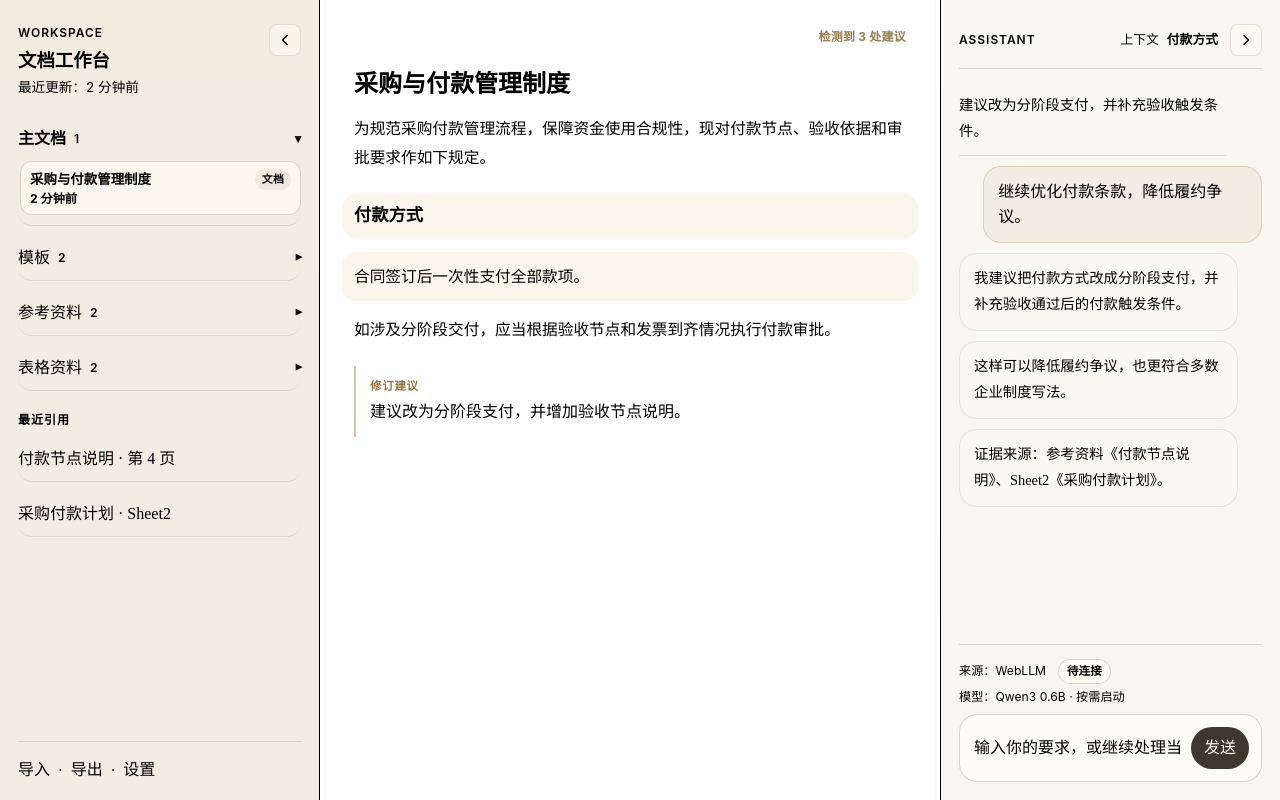
Test: workspace shell › opens settings, updates the workspace title, and persists it
Click the button "设置".
click(139, 770)  # box [123, 758, 155, 782]
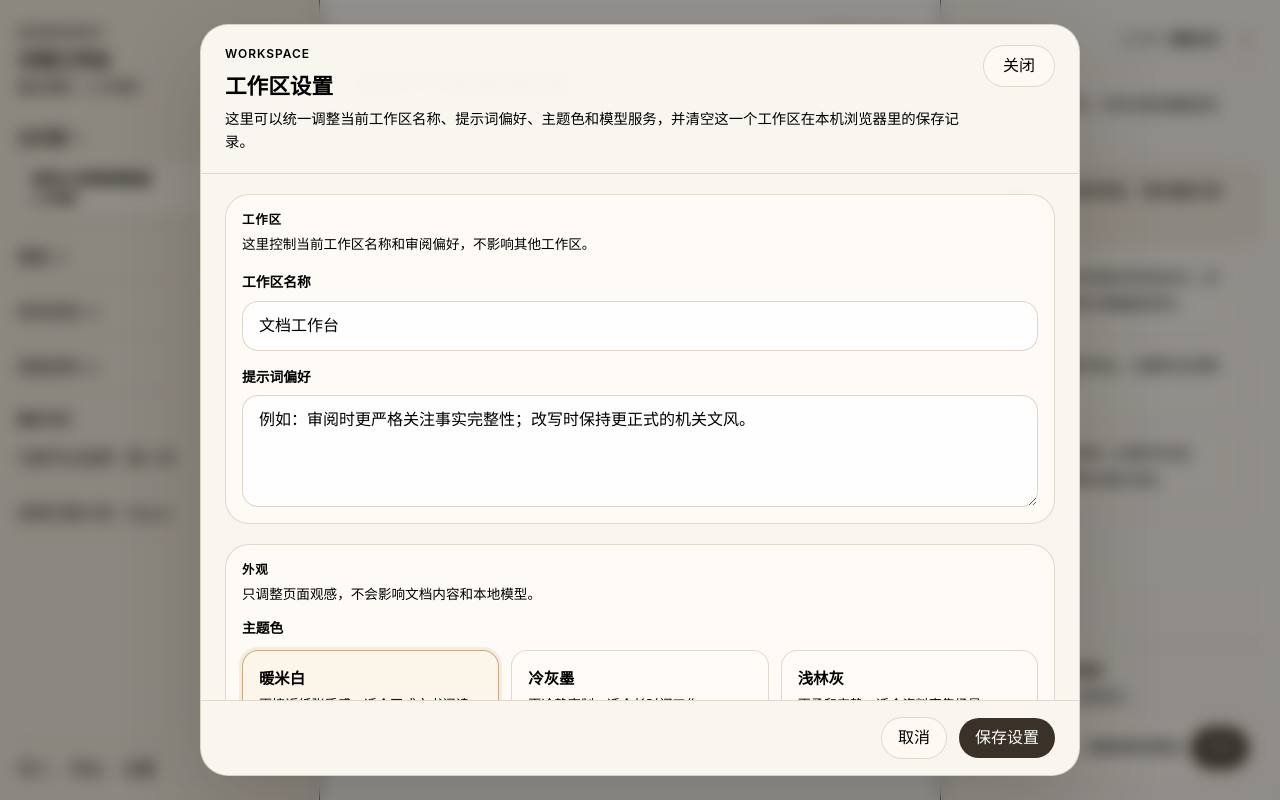
Result: the heading "工作区设置" is shown at [225, 75, 333, 99]
Replace the text in the field labelled "工作区名称" with "法务文档台" at (640, 326), box [242, 301, 1038, 351]
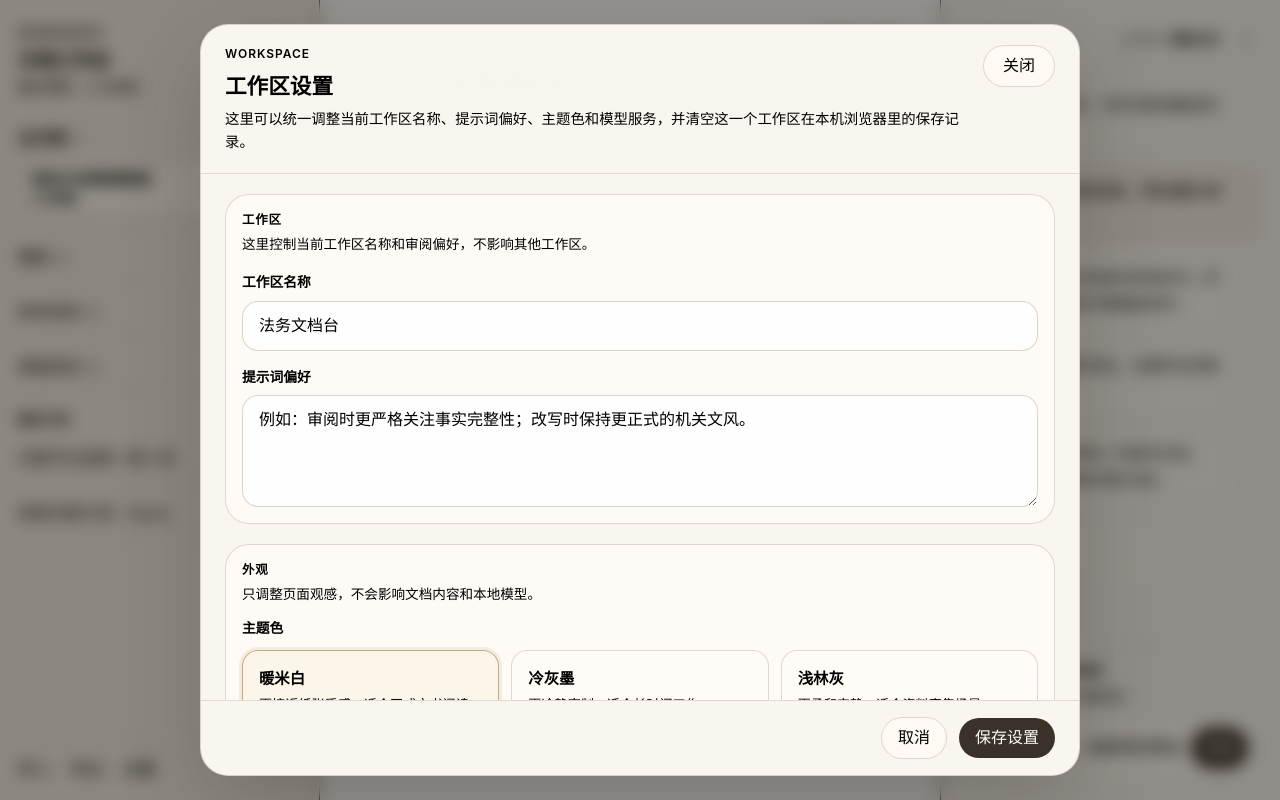
Type "审阅时优先指出事实缺失" into the text box named "提示词偏好".
click(640, 451); type("审阅时优先指出事实缺失")  # box [242, 395, 1038, 507]
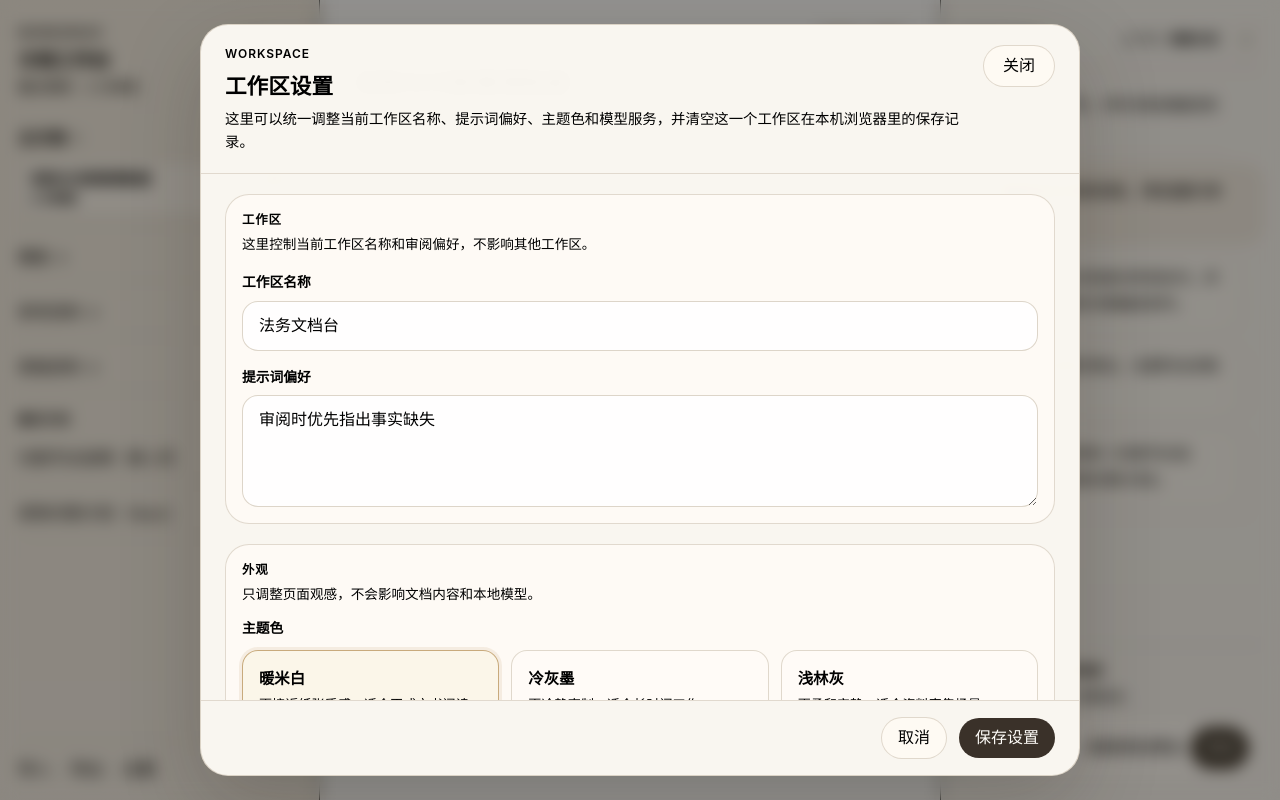
Click the radio button labelled "冷灰墨".
click(640, 691)  # box [511, 650, 769, 732]
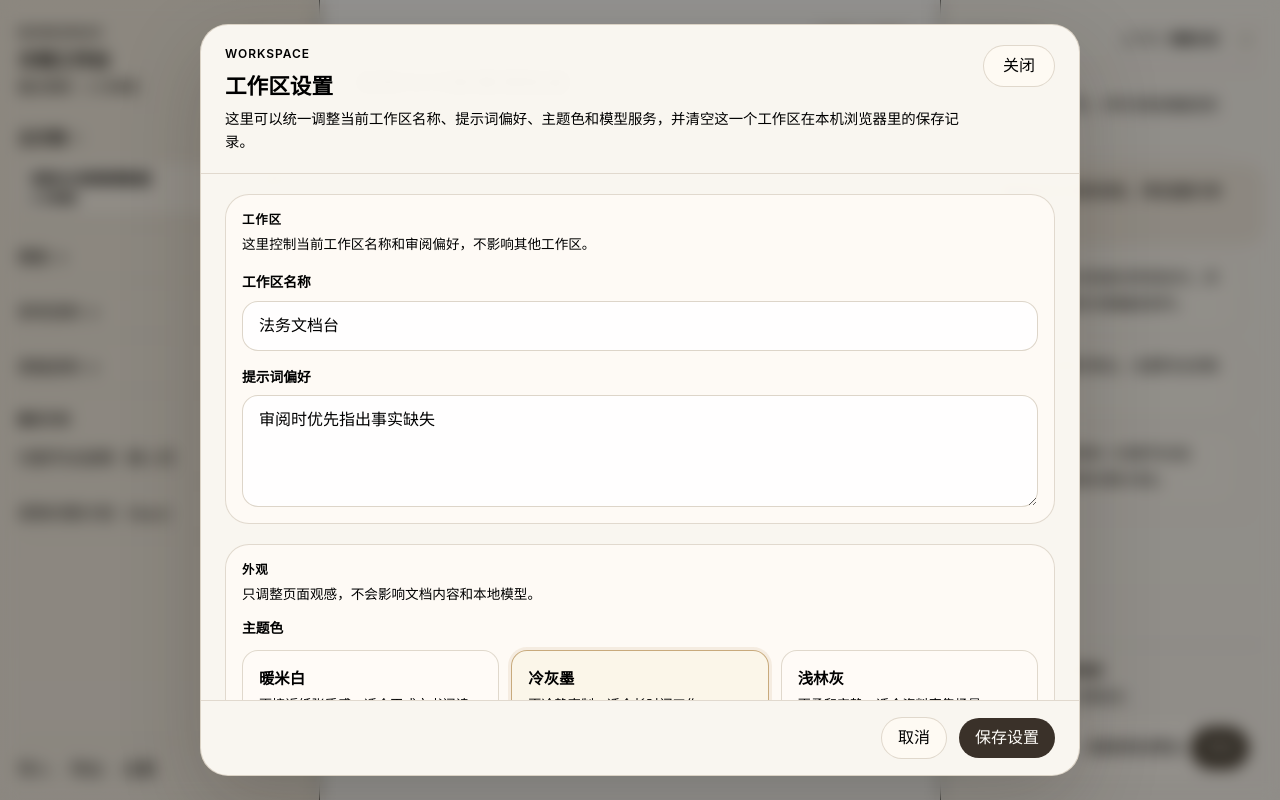
Result: the button "保存设置" is enabled
Click the button "保存设置".
click(1007, 738)  # box [959, 718, 1055, 758]
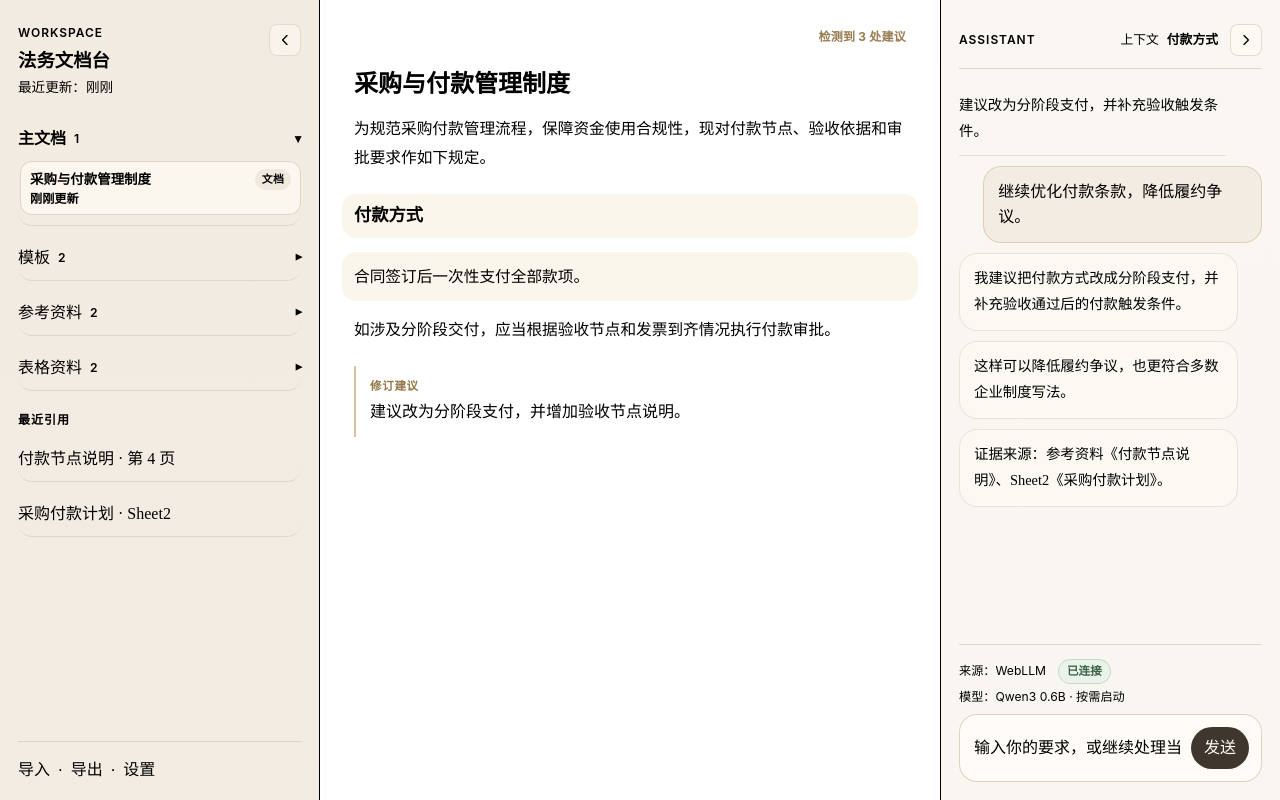
Result: the text "法务文档台" is shown at [18, 50, 113, 73]
